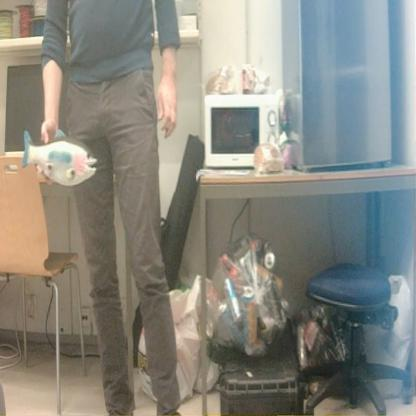rubberfish: (19, 117, 99, 190)
